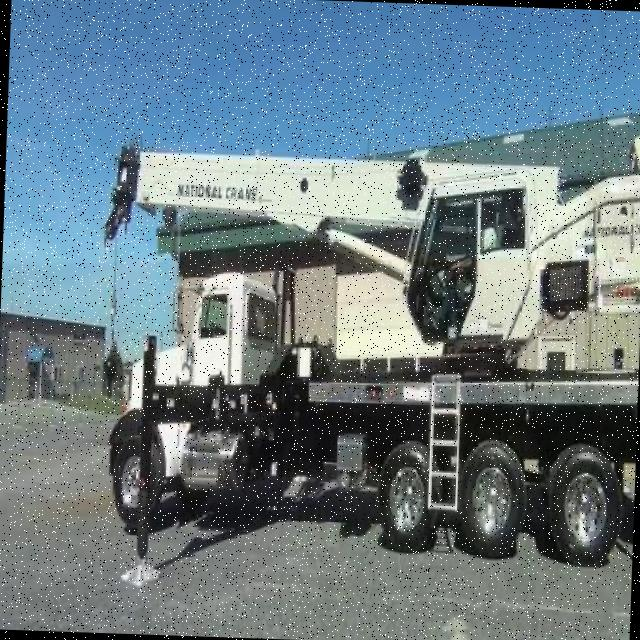Mobile Crane: (97, 133, 640, 588)
